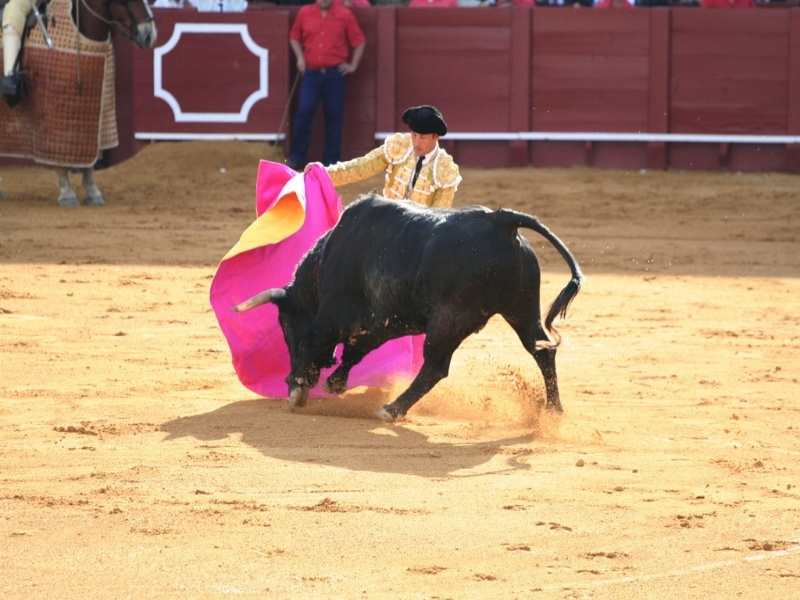person: (331, 96, 469, 204), (287, 2, 362, 163)
